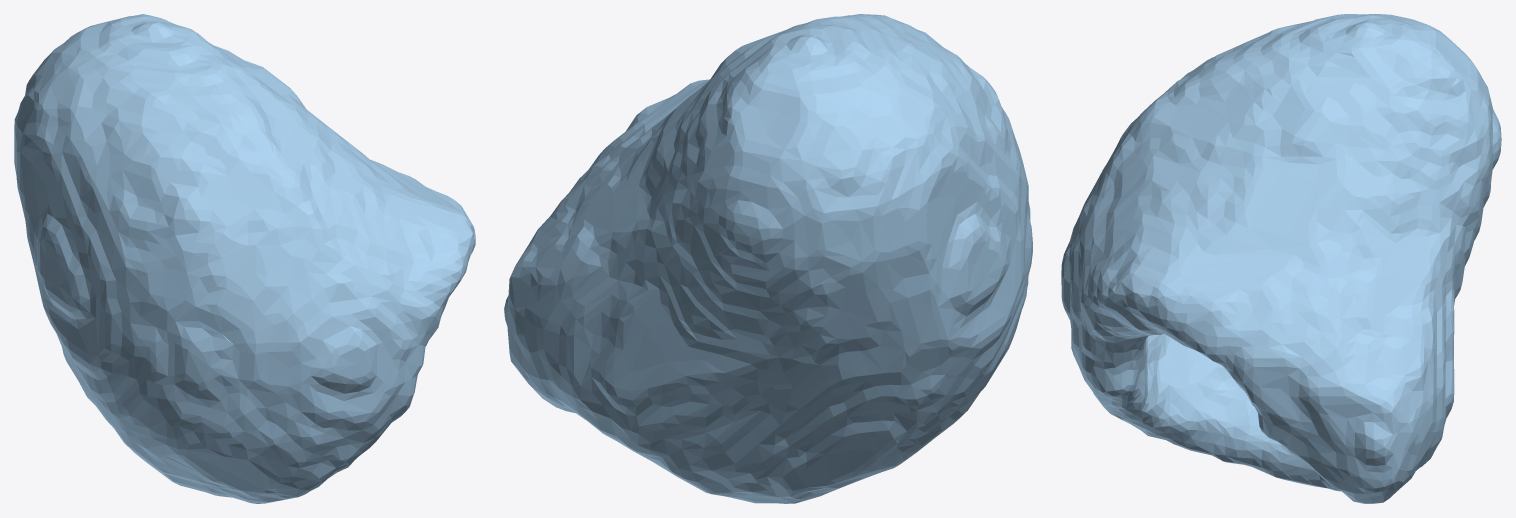
3 views of the same model, side by side, from view 1: azimuth 30°, elevation 25°; view 2: azimuth 150°, elevation 25°; view 3: azimuth 270°, elevation 25° (orthographic). The views are drawn at different scales.
Visible parts, largest first — view 1: world; view 2: world; view 3: world.
Boxes of the visible parts, x1,y1,x2,y2 form: world: [14, 14, 475, 503]; world: [504, 14, 1032, 503]; world: [1061, 14, 1501, 503].
Bounding box in the file's own units: 0.7536 × 0.8115 × 0.7384.
